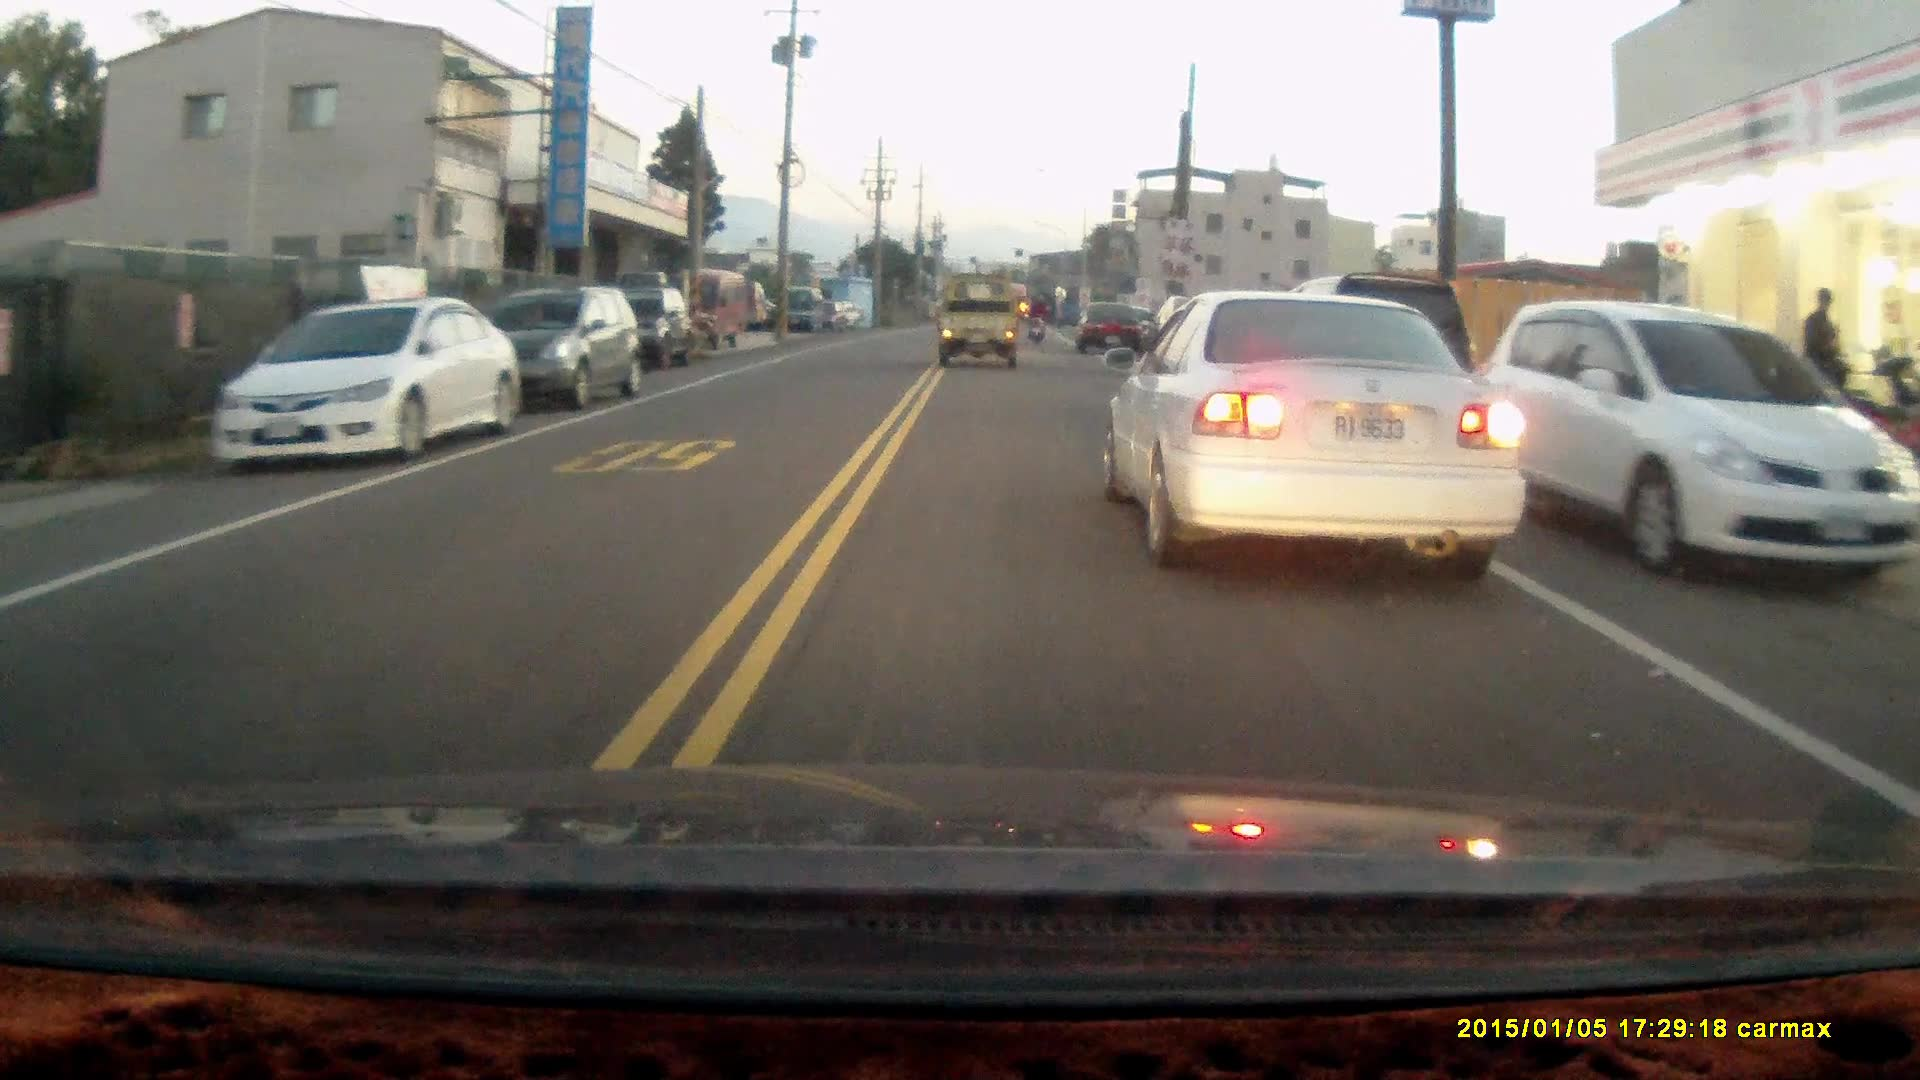pedestrian: (1799, 285, 1842, 395)
rider: (1022, 294, 1049, 342)
vehicle: (1109, 290, 1529, 577), (1479, 299, 1911, 574), (213, 298, 528, 467), (1283, 262, 1490, 491), (448, 284, 639, 410), (604, 287, 702, 374), (937, 272, 1023, 369), (669, 267, 760, 345), (1077, 301, 1152, 357)
